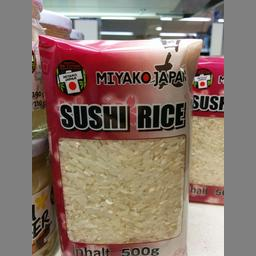rice: (36, 32, 202, 254)
